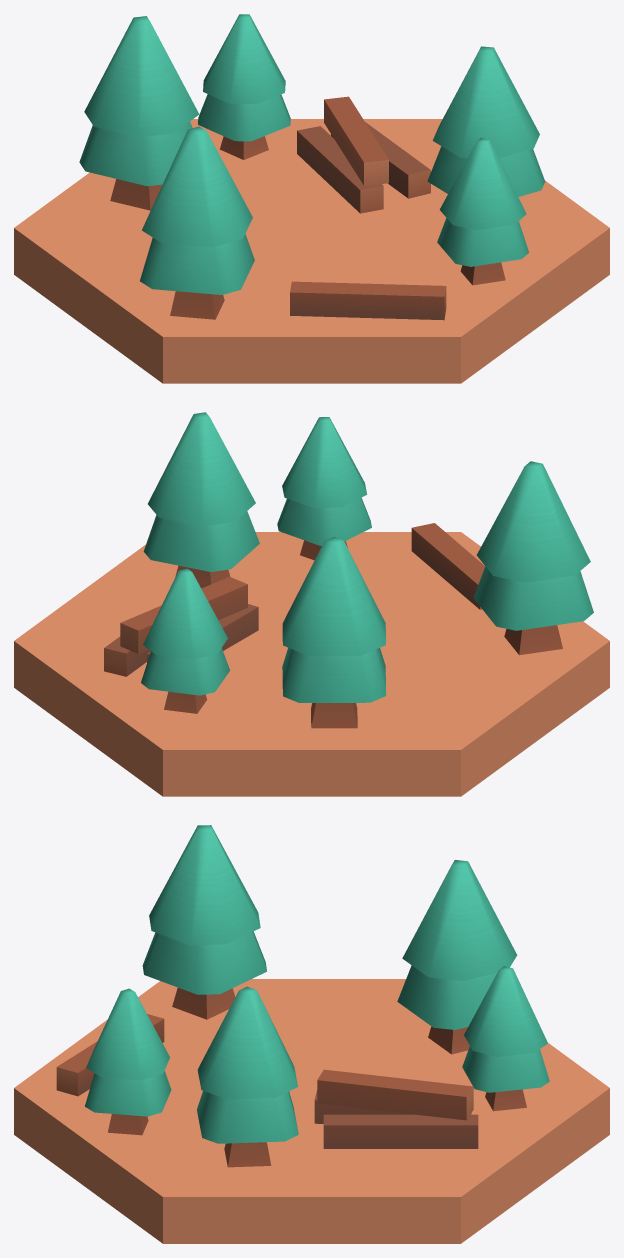
The model's file is dirt-lumber.fbx.
3 views of the same model, one above another, from view 1: azimuth 30°, elevation 25°; view 2: azimuth 150°, elevation 25°; view 3: azimuth 270°, elevation 25° (orthographic).
Parts seen in each view (by area): view 1: dirt_lumber; view 2: dirt_lumber; view 3: dirt_lumber.
Part boxes in pixels (x1,y1,x2,y2): dirt_lumber: (14, 14, 609, 383); dirt_lumber: (14, 412, 609, 796); dirt_lumber: (14, 825, 609, 1243).
Size of the model in its own units: 100 by 48 by 115.
1 material, 1 textured.
